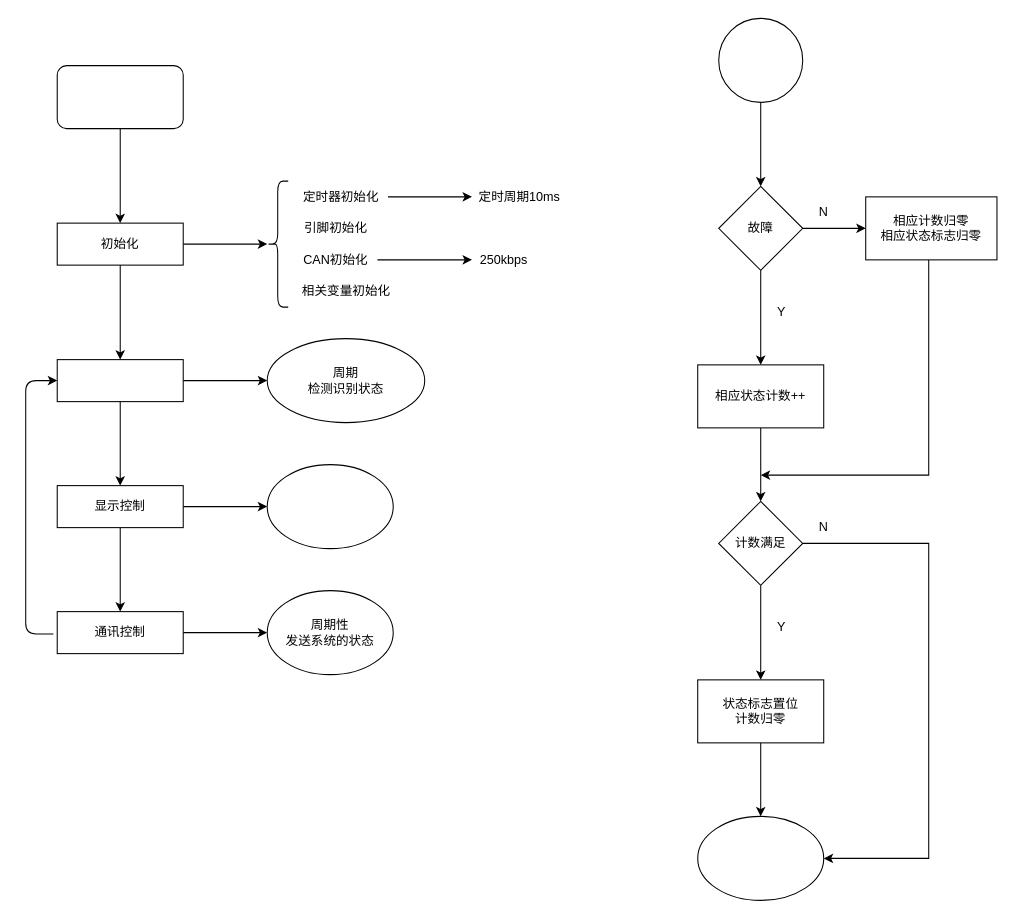
Image size: 1015x919. Some labels were removed from this diagram. The box of each missing label's shape, as (x1, y1, x2, y2) in pixels:
周期入口: (718, 17, 803, 102)
周期出口: (697, 815, 824, 900)
故障：Yellow 告警：Red: (266, 464, 393, 549)
状态识别: (56, 359, 183, 402)
系统入口: (56, 65, 183, 129)
